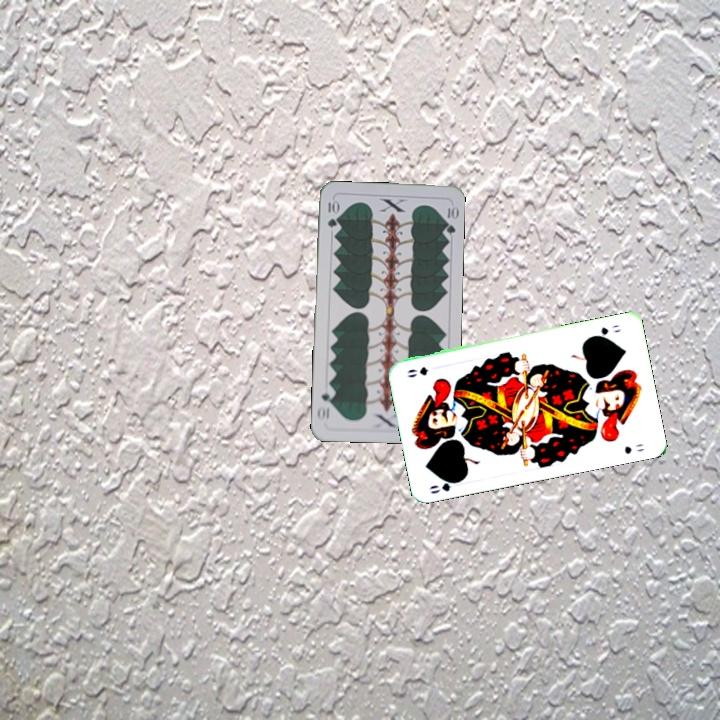G10: (324, 196, 339, 230)
GO: (425, 475, 465, 496), (587, 321, 624, 340)
